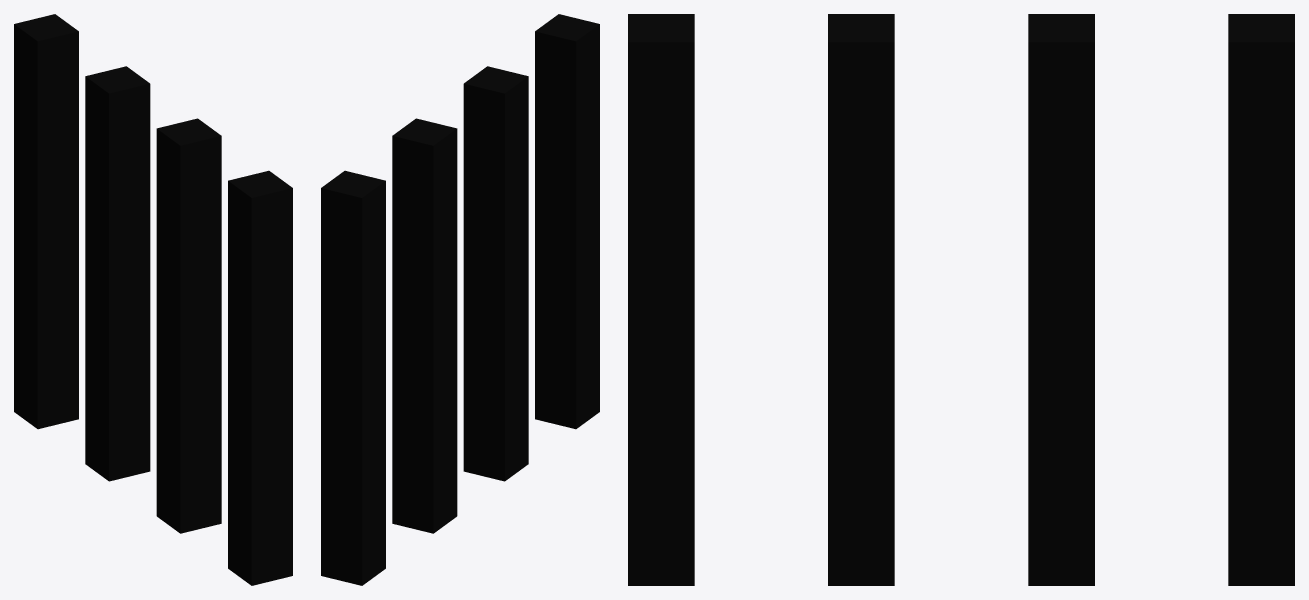
The model's file is bars.gltf.
The picture shows the model from 3 angles, left to right: view 1: azimuth 30°, elevation 25°; view 2: azimuth 150°, elevation 25°; view 3: azimuth 270°, elevation 25°; orthographic projection. The views are drawn at different scales.
Visible parts, largest first — view 1: cube (×4); view 2: cube (×4); view 3: cube (×4).
Boxes of the visible parts, x1=… form: cube (×4): x1=14, y1=14, x2=292, y2=585; cube (×4): x1=321, y1=14, x2=599, y2=585; cube (×4): x1=628, y1=14, x2=1294, y2=585.
Bounding box in the file's own units: 0.0625 × 0.5625 × 0.625.
Materials: 1 (1 with a texture image).
